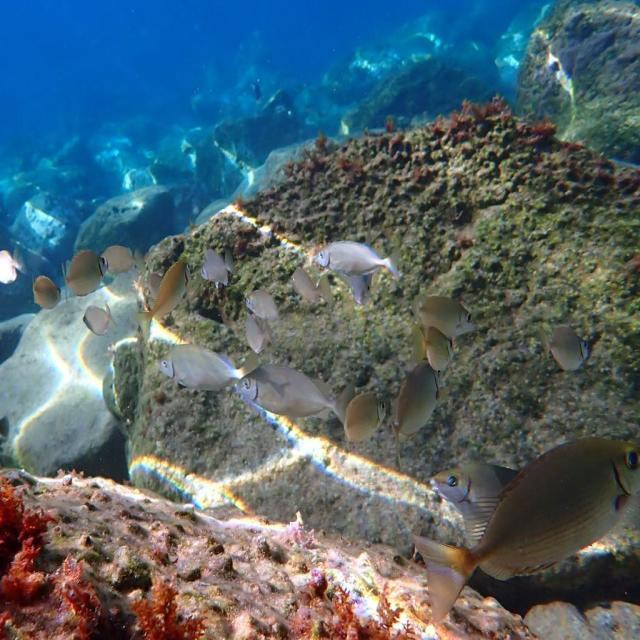Sokar Baligi: (149, 338, 248, 398), (312, 237, 406, 284), (532, 315, 596, 382)
